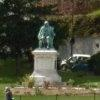Statue: (31, 15, 56, 63)
